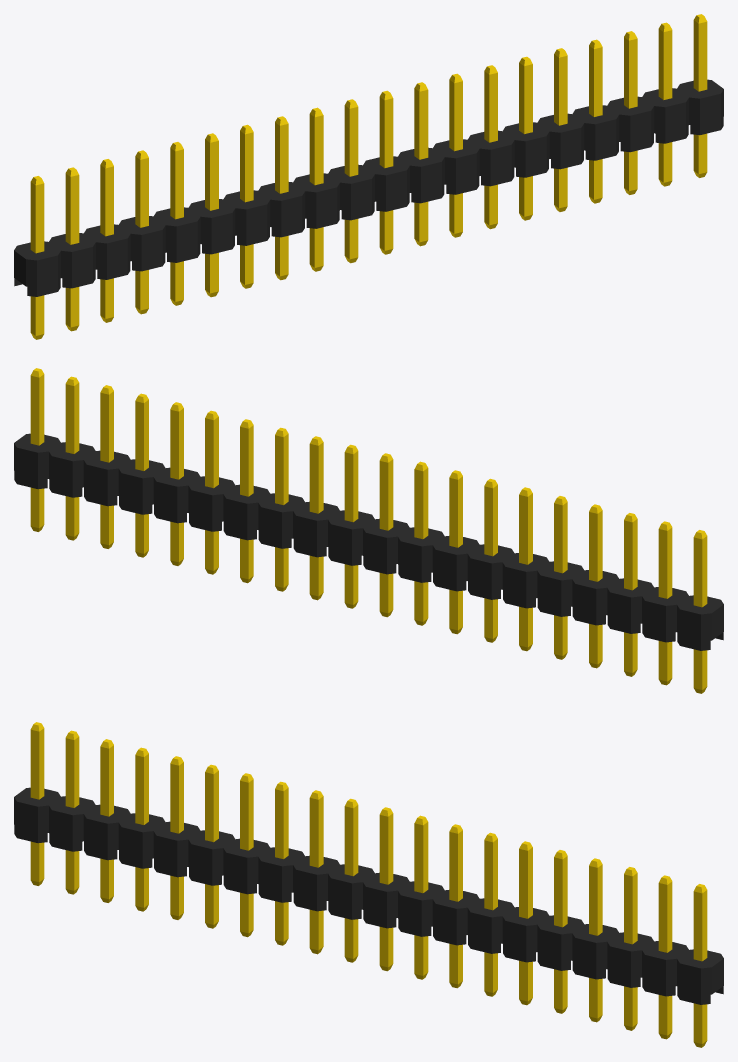
The model's file is PLS2-20.glb.
3 views of the same model, one above another, from view 1: azimuth 30°, elevation 25°; view 2: azimuth 150°, elevation 25°; view 3: azimuth 330°, elevation 25° (orthographic).
Parts seen in each view (by area): view 1: PLS2 (DS1025-01 CONNFLY); view 2: PLS2 (DS1025-01 CONNFLY); view 3: PLS2 (DS1025-01 CONNFLY).
Boxes of the visible parts, left/top/right/bottom form: PLS2 (DS1025-01 CONNFLY): left=14, top=14, right=723, bottom=339; PLS2 (DS1025-01 CONNFLY): left=14, top=368, right=723, bottom=693; PLS2 (DS1025-01 CONNFLY): left=14, top=722, right=723, bottom=1047.
Size of the model in its own units: 0.04 by 0.0088 by 0.002.
